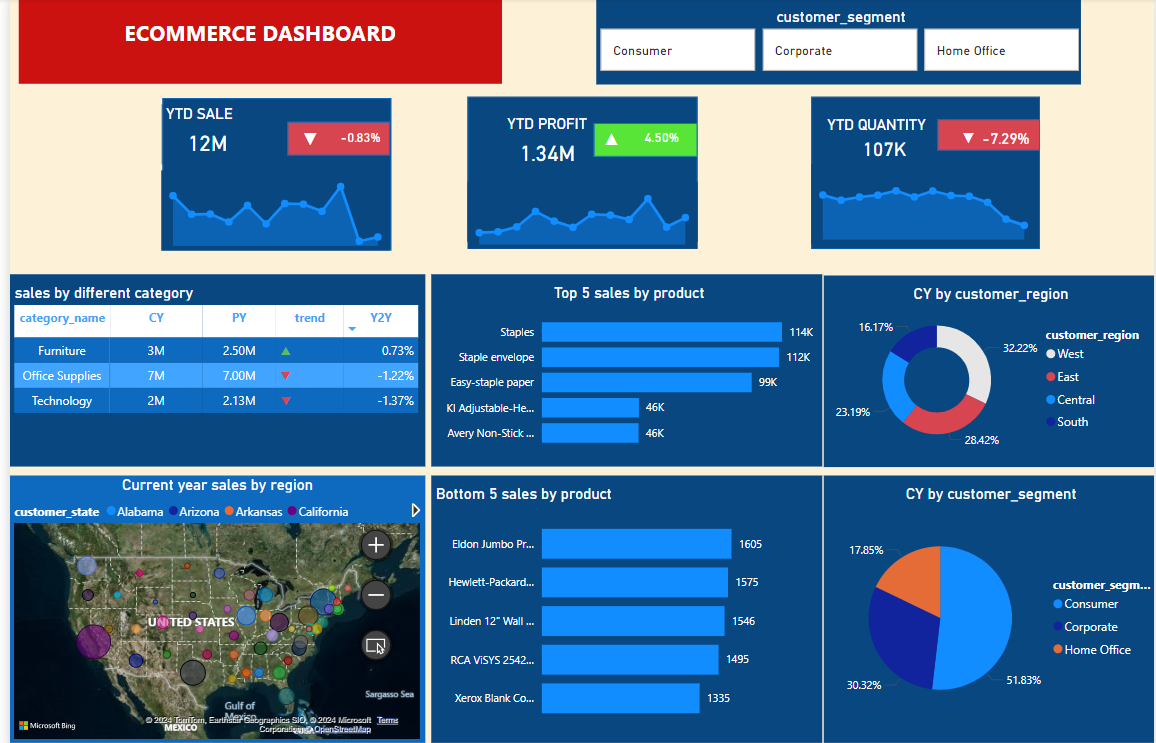

The dashboard page shown, as its layout file describes it:
{"tool":"powerbi","page":{"name":"Page 1","canvas":[1280,846],"ordinal":0},"visuals":[{"type":"textbox","box":[9.6,0,540.7,96.1],"z":0},{"type":"shape","box":[170.7,111.9,256,170.7],"z":1000},{"type":"shape","box":[310.5,138.5,114.7,37.8],"z":2000},{"type":"card","fields":{"Values":["ecommerce_data.Y2Y"]},"box":[359.5,138.9,65.9,38.4],"z":2500,"group":"g1"},{"type":"card","fields":{"Values":["ecommerce_data.profit_year_to_year"]},"box":[696.6,138.9,65.9,38.4],"z":2500,"group":"g2"},{"type":"card","title":"YTD SALE","fields":{"Values":["ecommerce_data.CY"]},"box":[169.3,118.9,103.5,67.1],"z":3000},{"type":"areaChart","fields":{"Y":["Sum(ecommerce_data.sales_per_order)"],"Category":["calender.month"]},"box":[169.3,193,256,89.5],"z":4000},{"type":"group","id":"g1","title":"Group 1","box":[314.7,132.9,110.5,53.2],"z":5000},{"type":"card","fields":{"Values":["ecommerce_data.icon"]},"box":[314.7,132.9,42.5,53.5],"z":5001,"group":"g1"},{"type":"card","fields":{"Values":["ecommerce_data.profiticon"]},"box":[651.8,132.9,42.5,53.5],"z":5001,"group":"g2"},{"type":"shape","box":[512,110.5,257.4,162.3],"z":6000},{"type":"shape","box":[653.2,139.9,116.1,37.8],"z":7000},{"type":"card","title":"YTD PROFIT","fields":{"Values":["ecommerce_data.profit current year"]},"box":[551.1,130.1,100.7,67.1],"z":8000},{"type":"areaChart","fields":{"Category":["calender.month"],"Y":["Sum(ecommerce_data.profit_per_order)"]},"box":[512,205.6,257.4,75.5],"z":9000},{"type":"group","id":"g2","title":"Group 1","box":[651.8,132.9,111.9,53.2],"z":10000},{"type":"shape","box":[896.6,110.5,256,170.7],"z":11000},{"type":"areaChart","fields":{"Category":["calender.month"],"Y":["Sum(ecommerce_data.order_quantity)"]},"box":[896.3,185.4,251.8,89.5],"z":12000,"group":"g3"},{"type":"card","title":"YTD QUANTITY","fields":{"Values":["ecommerce_data.quantity current year"]},"box":[909.3,131.5,139,56],"z":13000,"group":"g3"},{"type":"pivotTable","title":"sales by different category","fields":{"Rows":["ecommerce_data.category_name"],"Values":["ecommerce_data.CY","ecommerce_data.PY","ecommerce_data.icon_year","ecommerce_data.Y2Y"]},"box":[0,309.1,464.4,215.4],"z":14000},{"type":"clusteredBarChart","title":"Top 5 sales by product","fields":{"Y":["Sum(ecommerce_data.sales_per_order)"],"Category":["ecommerce_data.product_name"]},"box":[471.4,309.1,437.8,215.4],"z":15000},{"type":"clusteredBarChart","title":"Bottom 5 sales by product","fields":{"Y":["Sum(ecommerce_data.sales_per_order)"],"Category":["ecommerce_data.product_name"]},"box":[471.4,534.3,437.8,299.3],"z":16000},{"type":"map","title":"Current year sales by region","fields":{"Y":["us_state_long_lat_codes.latitude"],"X":["us_state_long_lat_codes.longitude"],"Size":["ecommerce_data.CY"],"Series":["ecommerce_data.customer_state"]},"box":[0,534.3,464.4,299.3],"z":17000},{"type":"donutChart","fields":{"Category":["ecommerce_data.customer_region"],"Y":["ecommerce_data.CY"]},"box":[910.6,310.5,369.3,214],"z":18000},{"type":"pieChart","fields":{"Category":["ecommerce_data.customer_segment"],"Y":["ecommerce_data.CY"]},"box":[910.6,534.3,369.3,299.3],"z":19000},{"type":"advancedSlicerVisual","fields":{"Values":["ecommerce_data.customer_segment"]},"box":[656,0,542.7,96.5],"z":20000},{"type":"shape","box":[1037.9,135.7,114.7,35],"z":21000},{"type":"card","fields":{"Values":["ecommerce_data.Quantity year to year"]},"box":[1079.9,144.1,68.8,29.4],"z":22000,"group":"g3"},{"type":"card","fields":{"Values":["ecommerce_data.quantity icon"]},"box":[1030.3,141.3,83.9,32.2],"z":23000,"group":"g3"},{"type":"group","id":"g3","title":"Group 2","box":[896.3,131.5,252.4,143.4],"z":23001}]}

Visuals, with their boxes in screenshot pixels (x1, y1, x2, y2), scaled from the page's 1280x846 canvas onto the 1156x743 screenshot:
textbox: (9, 0, 497, 84)
shape: (154, 98, 385, 248)
shape: (280, 122, 384, 155)
card - ecommerce_data.Y2Y: (325, 122, 384, 156)
card - ecommerce_data.profit_year_to_year: (629, 122, 689, 156)
"YTD SALE" card: (153, 104, 246, 163)
areaChart - Sum(ecommerce_data.sales_per_order) x calender.month: (153, 170, 384, 248)
"Group 1" group: (284, 117, 384, 163)
card - ecommerce_data.icon: (284, 117, 323, 164)
card - ecommerce_data.profiticon: (589, 117, 627, 164)
shape: (462, 97, 695, 240)
shape: (590, 123, 695, 156)
"YTD PROFIT" card: (498, 114, 589, 173)
areaChart - calender.month x Sum(ecommerce_data.profit_per_order): (462, 181, 695, 247)
"Group 1" group: (589, 117, 690, 163)
shape: (810, 97, 1041, 247)
areaChart - calender.month x Sum(ecommerce_data.order_quantity): (809, 163, 1037, 241)
"YTD QUANTITY" card: (821, 115, 947, 165)
"sales by different category" pivotTable: (0, 271, 419, 461)
"Top 5 sales by product" clusteredBarChart: (426, 271, 821, 461)
"Bottom 5 sales by product" clusteredBarChart: (426, 469, 821, 732)
"Current year sales by region" map: (0, 469, 419, 732)
donutChart - ecommerce_data.customer_region x ecommerce_data.CY: (822, 273, 1155, 461)
pieChart - ecommerce_data.customer_segment x ecommerce_data.CY: (822, 469, 1155, 732)
advancedSlicerVisual - ecommerce_data.customer_segment: (592, 0, 1083, 85)
shape: (937, 119, 1041, 150)
card - ecommerce_data.Quantity year to year: (975, 127, 1037, 152)
card - ecommerce_data.quantity icon: (930, 124, 1006, 152)
"Group 2" group: (809, 115, 1037, 241)
